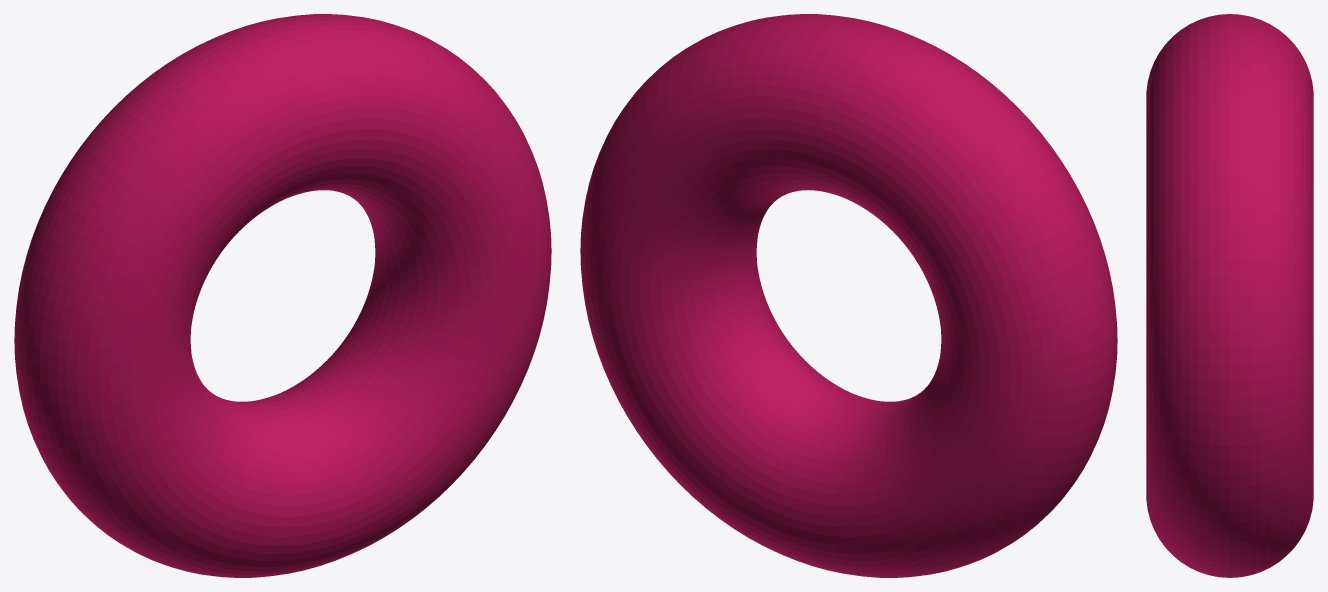
3 renders of one model, left to right at view 1: azimuth 30°, elevation 25°; view 2: azimuth 150°, elevation 25°; view 3: azimuth 270°, elevation 25°, orthographic. The views are drawn at different scales.
Visible parts, largest first — view 1: world; view 2: world; view 3: world.
Boxes of the visible parts, bbox=[...] form: world: bbox=[14, 14, 551, 577]; world: bbox=[580, 14, 1117, 577]; world: bbox=[1146, 14, 1313, 577].
Size of the model in its own units: 24.67 by 24.67 by 7.32.
